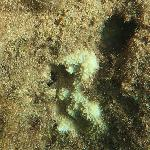dead: (1, 2, 149, 147)
